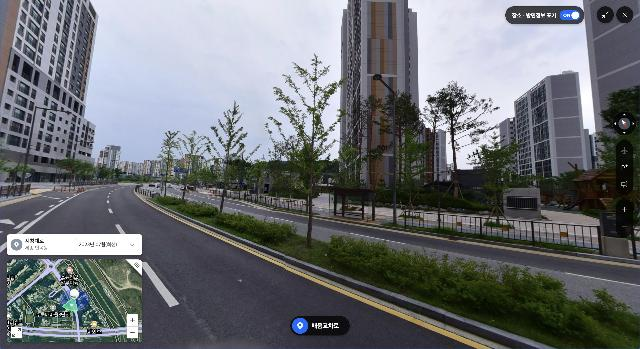other: (262, 52, 350, 249), (422, 79, 502, 203), (371, 90, 433, 207), (467, 124, 527, 229), (209, 100, 263, 214), (597, 84, 640, 169), (174, 129, 212, 205), (156, 131, 186, 201), (11, 152, 34, 193), (55, 156, 81, 191)
